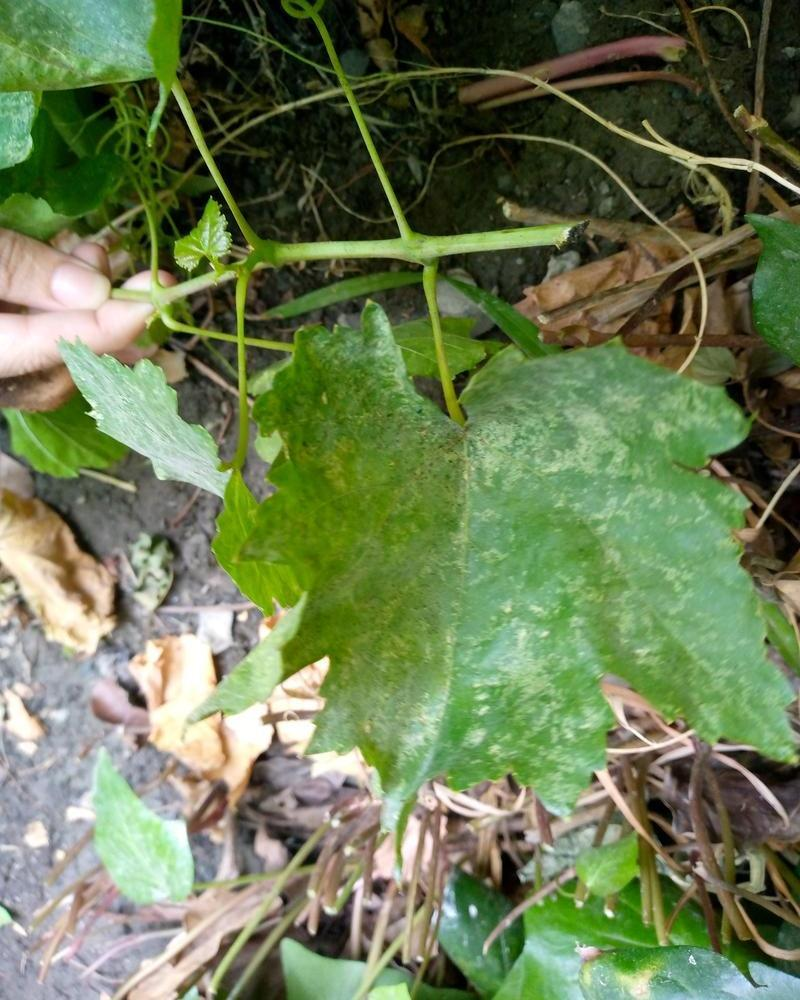Powdery-Mildew: (544, 388, 641, 487), (453, 404, 558, 484), (472, 611, 555, 705), (354, 696, 444, 770), (365, 313, 422, 412), (660, 378, 743, 439), (464, 730, 495, 761)
